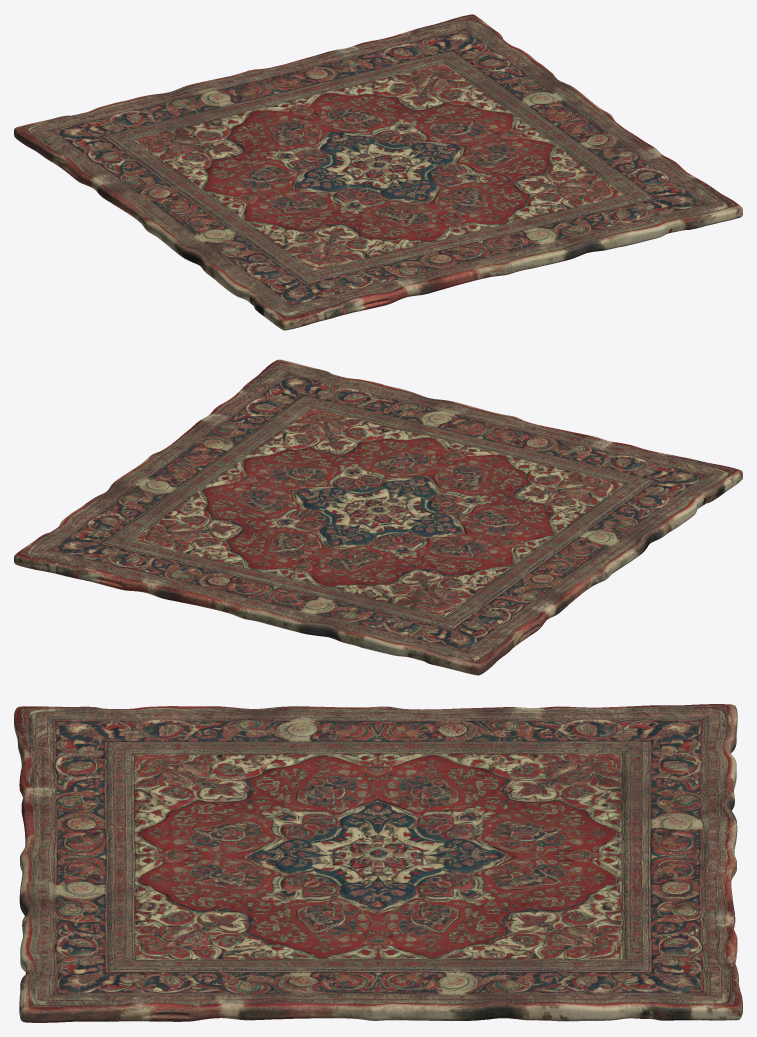
File: WornPersianRug.glb
3 renders of one model, top to bottom at view 1: azimuth 30°, elevation 25°; view 2: azimuth 150°, elevation 25°; view 3: azimuth 270°, elevation 25°, orthographic. The views are drawn at different scales.
Bounding box in the file's own units: 1.9 × 0.0699 × 1.9.
Materials: 1 (1 with a texture image).
